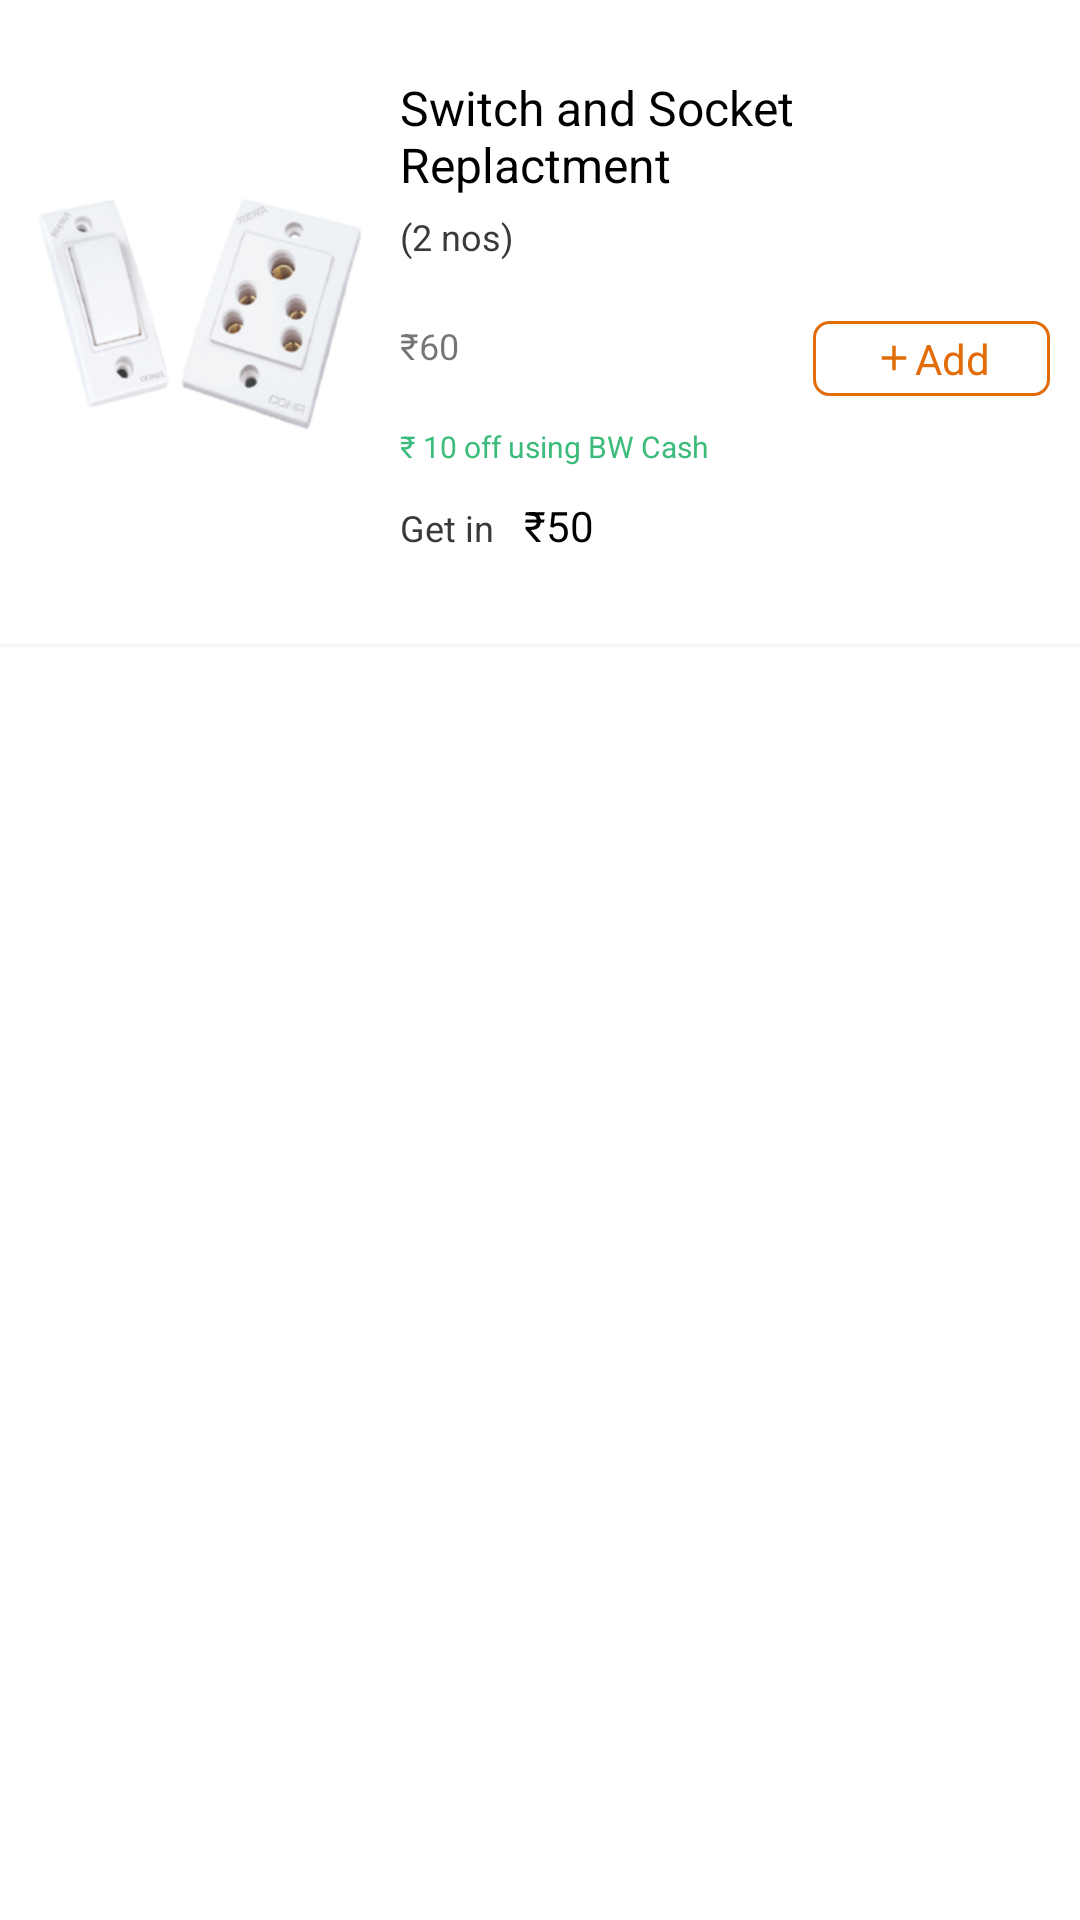

Named icons in this screenshot (1080w x 1920h) and their bounding boxes, (x1, y1, x2, y2):
swich: (50, 206, 360, 429)
